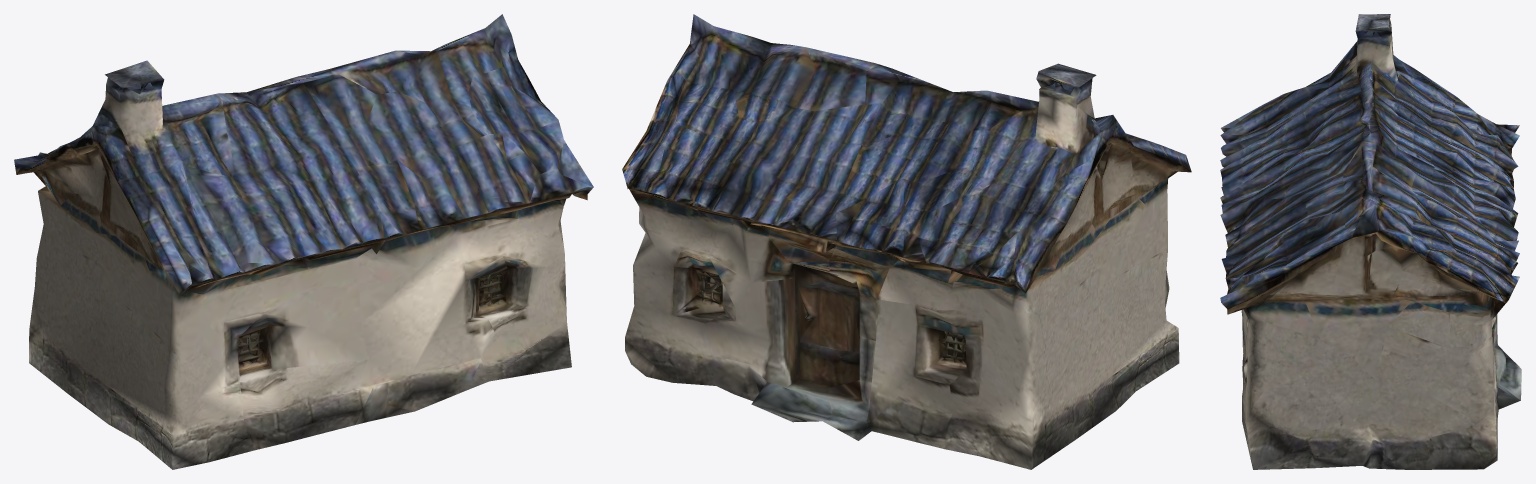
Rendered from house_generic_a.glb.
The picture shows the model from 3 angles, left to right: view 1: azimuth 30°, elevation 25°; view 2: azimuth 150°, elevation 25°; view 3: azimuth 270°, elevation 25°; orthographic projection. The views are drawn at different scales.
Parts seen in each view (by area): view 1: tripo_node_47480820-845d-4a85-95c8-4115cd9d7e76; view 2: tripo_node_47480820-845d-4a85-95c8-4115cd9d7e76; view 3: tripo_node_47480820-845d-4a85-95c8-4115cd9d7e76.
Boxes of the visible parts, x1=… form: tripo_node_47480820-845d-4a85-95c8-4115cd9d7e76: x1=14, y1=14, x2=593, y2=469; tripo_node_47480820-845d-4a85-95c8-4115cd9d7e76: x1=622, y1=14, x2=1191, y2=469; tripo_node_47480820-845d-4a85-95c8-4115cd9d7e76: x1=1220, y1=14, x2=1521, y2=469.
Bounding box in the file's own units: 0.9609 × 0.741 × 0.6863.
Materials: 1 (1 with a texture image).
